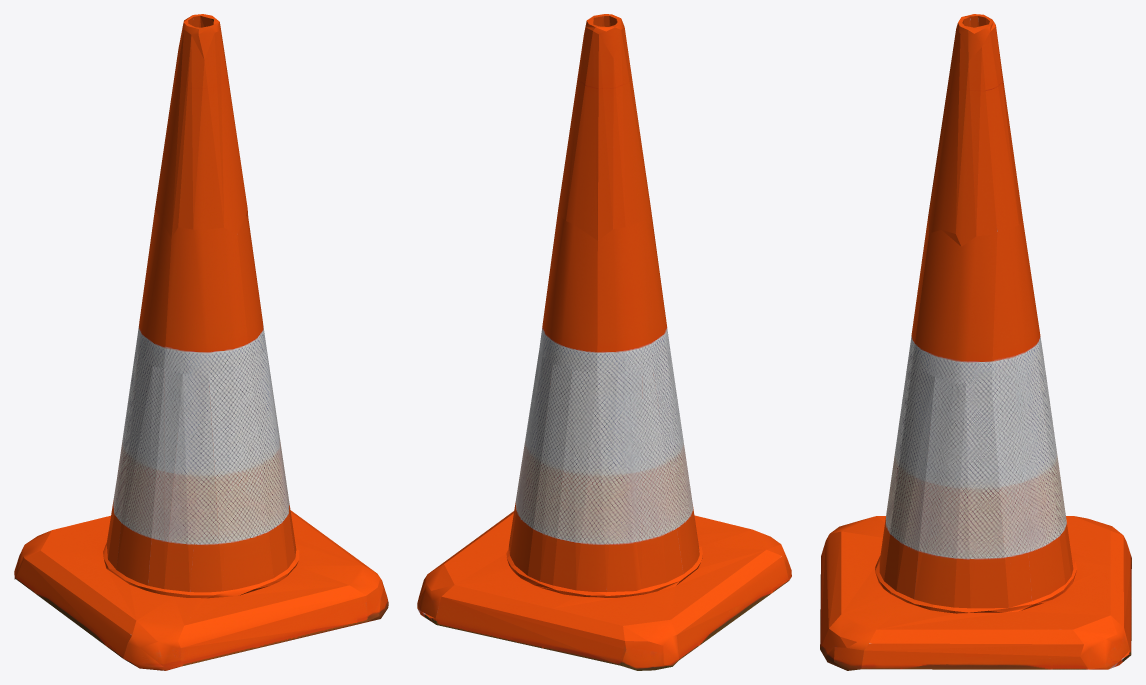
Rendered from traffic_cone.glb.
3 views of the same model, side by side, from view 1: azimuth 30°, elevation 25°; view 2: azimuth 150°, elevation 25°; view 3: azimuth 270°, elevation 25° (orthographic). The views are drawn at different scales.
Size of the model in its own units: 0.911 by 1.9 by 0.9134.
1 material, 1 textured.
